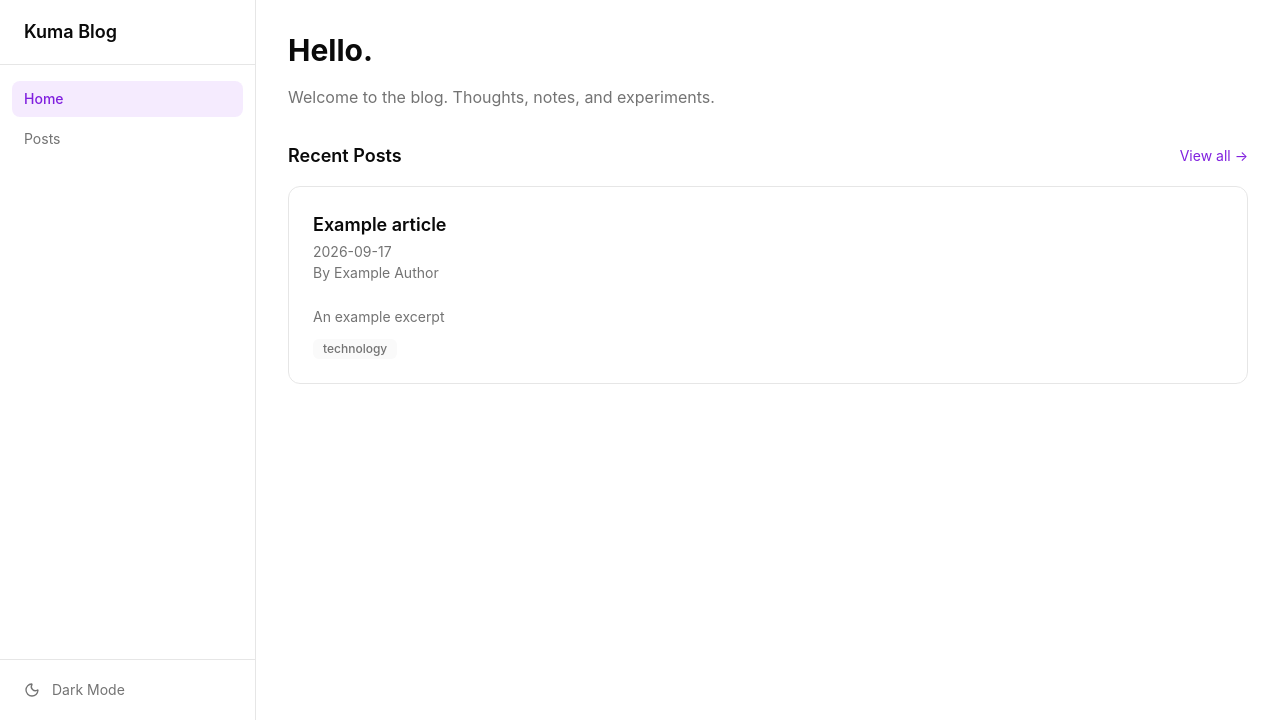
blog navigation › shows the author on cards and articles and loads article content
Expected: the text "By Example Author" is shown, [313,264,439,281]
Click the link "View all →" at (1214, 156), box [1180,146,1248,166]
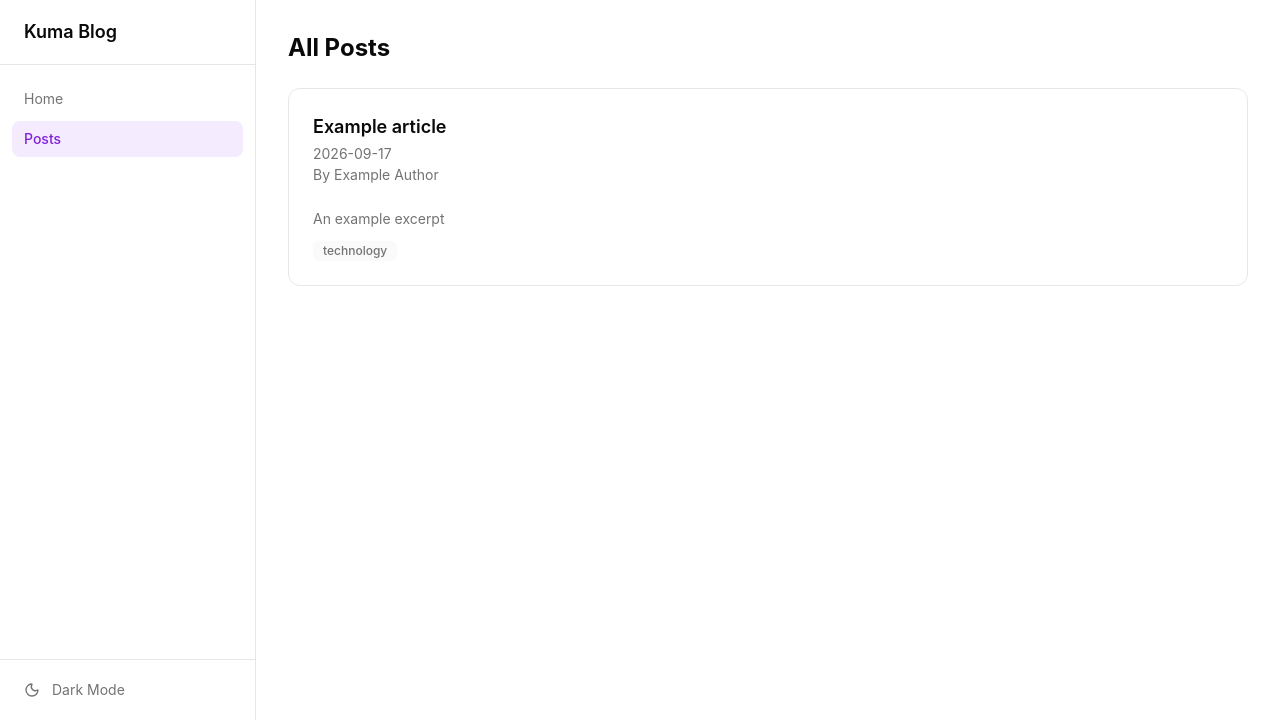
Expected: the heading "All Posts" is shown, [288,33,390,62]
Click the link "Example article" at (768, 187), box [288,88,1248,286]
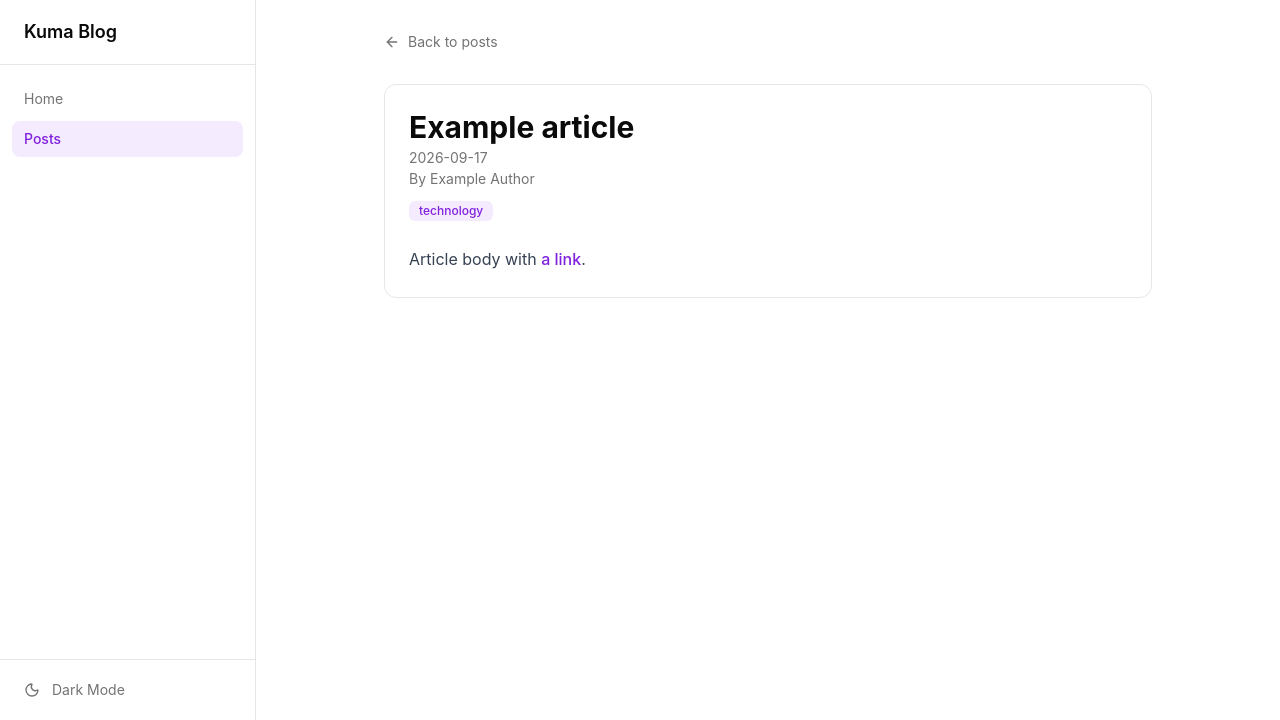
Expected: the heading "Example article" is shown, [409,109,634,145]
Expected: the link "a link" has attribute href="https://example.com", [541,249,581,269]
Click the link "Back to posts" at (441, 42), box [384,32,498,52]
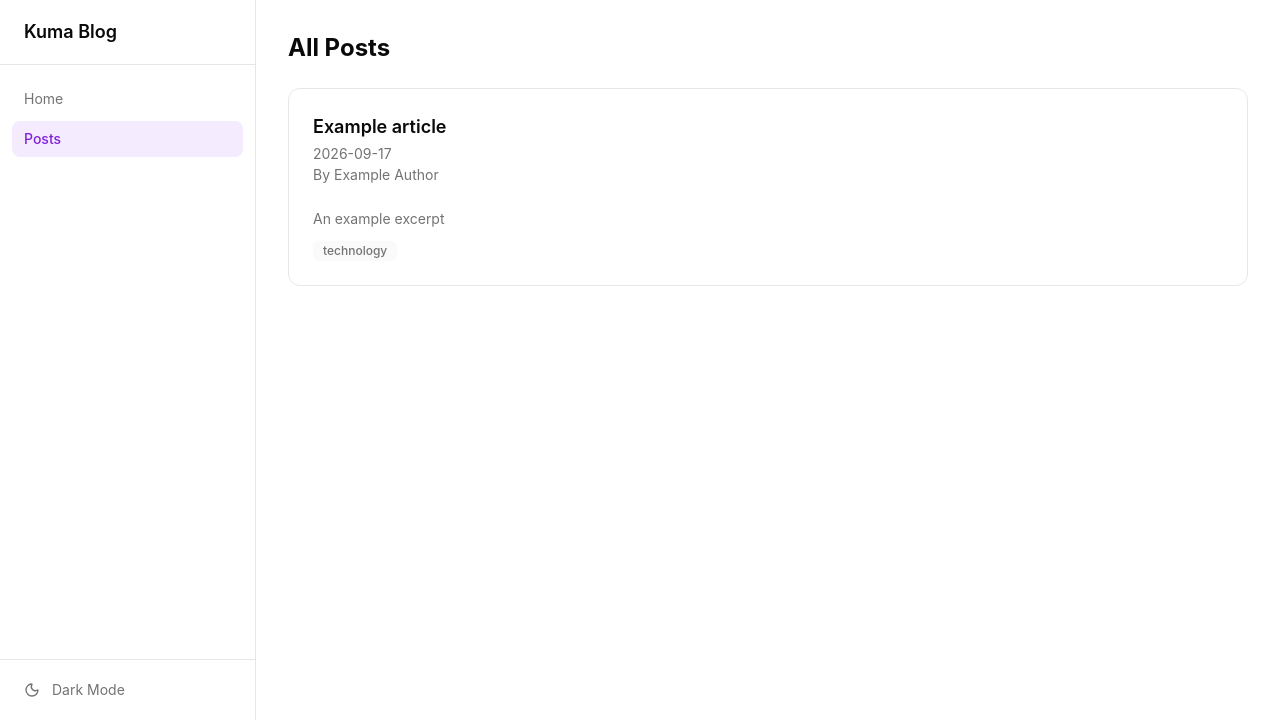
Expected: the heading "All Posts" is shown, [288,33,390,62]
